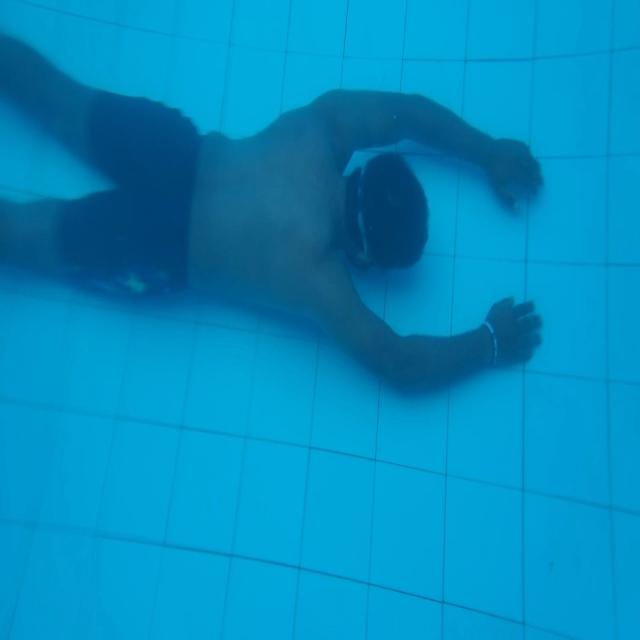Drowning: (1, 34, 545, 396)
